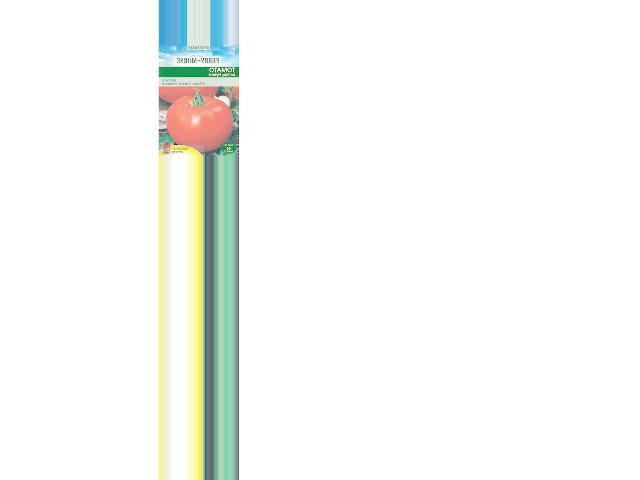tomato: (166, 96, 232, 152)
